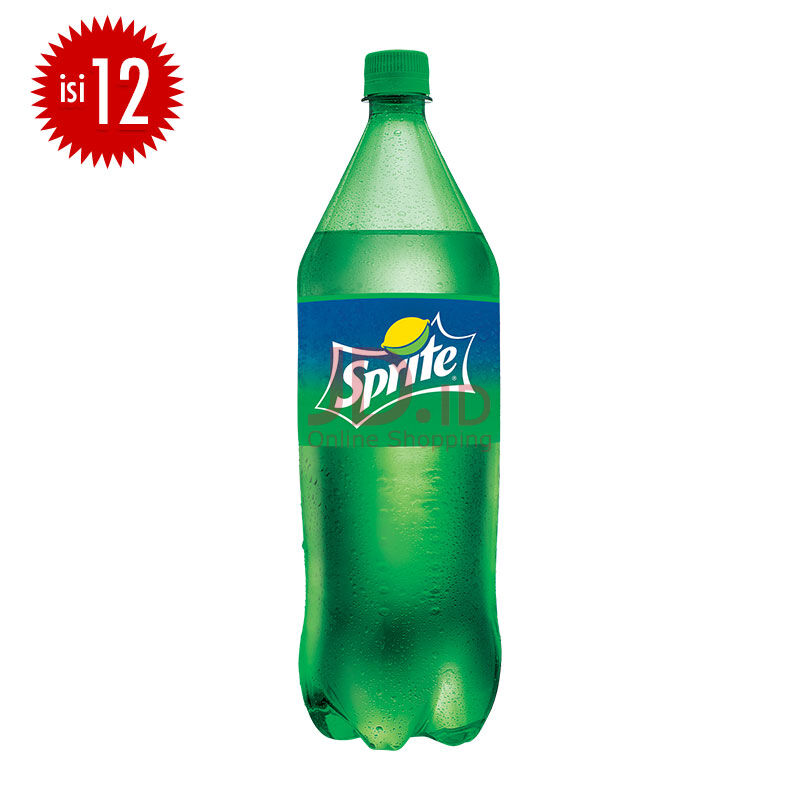botol: (290, 25, 504, 750)
